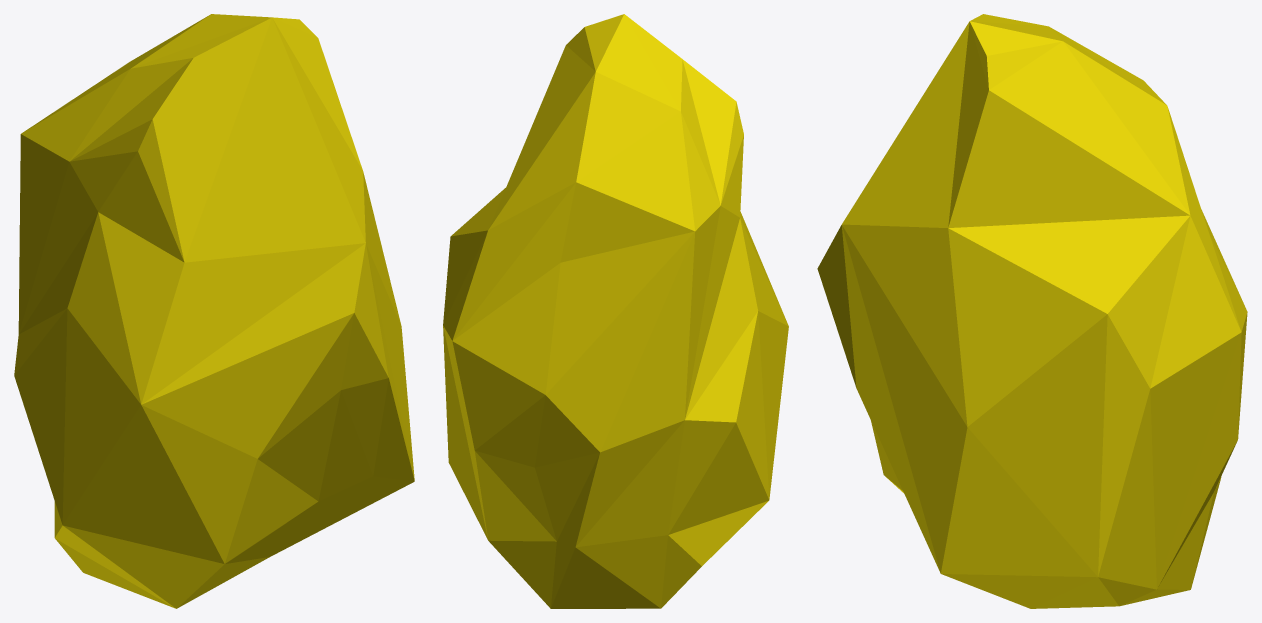
The model's file is GlowOreItem.fbx.
3 views of the same model, side by side, from view 1: azimuth 30°, elevation 25°; view 2: azimuth 150°, elevation 25°; view 3: azimuth 270°, elevation 25° (orthographic). The views are drawn at different scales.
Visible parts, largest first — view 1: Icosphere; view 2: Icosphere; view 3: Icosphere.
Part boxes in pixels (x1,y1,x2,y2): Icosphere: (14,14,414,608); Icosphere: (443,14,788,608); Icosphere: (817,14,1247,608).
Bounding box in the file's own units: 30.17 × 51.9 × 34.4.
